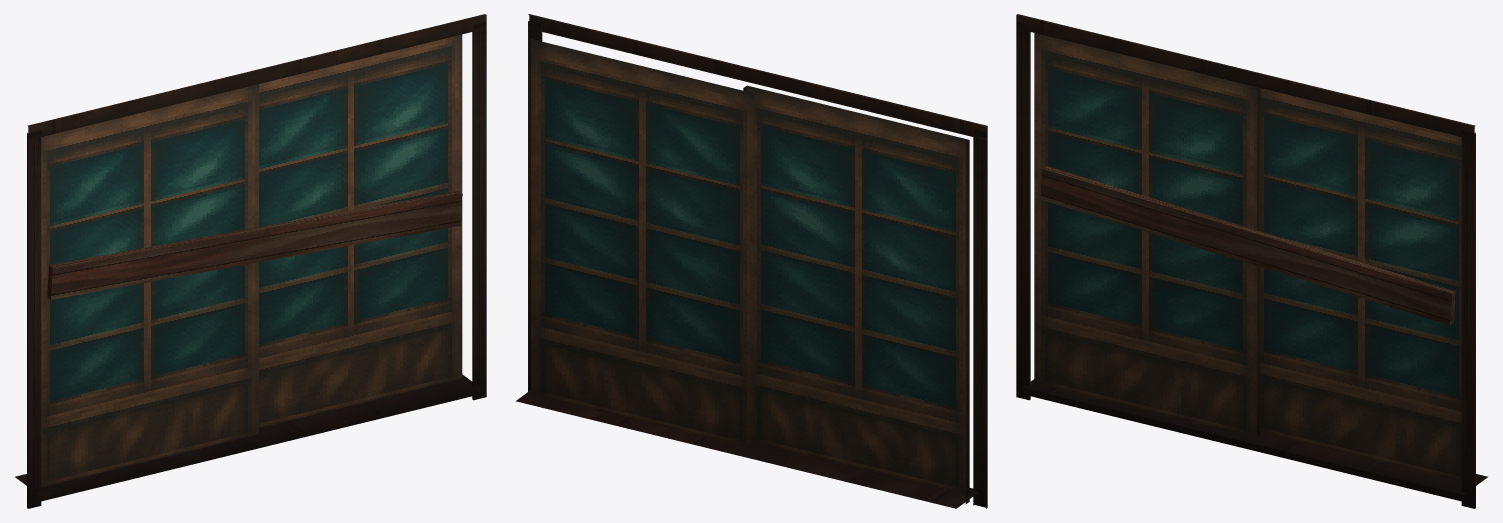
Rendered from prop_sash-20-16-5.glb.
The picture shows the model from 3 angles, left to right: view 1: azimuth 30°, elevation 25°; view 2: azimuth 150°, elevation 25°; view 3: azimuth 330°, elevation 25°; orthographic projection.
Parts seen in each view (by area): view 1: prop_sash-20-16-5; view 2: prop_sash-20-16-5; view 3: prop_sash-20-16-5.
Part boxes in pixels (left/top/right/bottom): prop_sash-20-16-5: left=15, top=14, right=486, bottom=508; prop_sash-20-16-5: left=516, top=14, right=987, bottom=508; prop_sash-20-16-5: left=1016, top=14, right=1487, bottom=508.
Size of the model in its own units: 2.12 by 1.69 by 0.2.
Materials: 3 (3 with a texture image).
